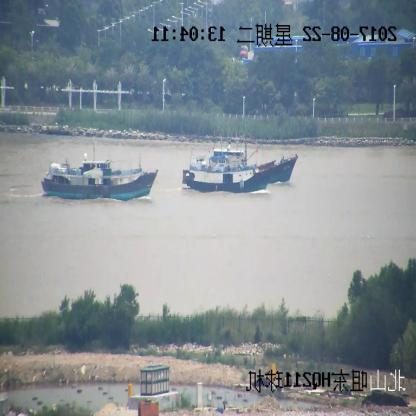Fishing Boat: (42, 154, 158, 202), (205, 147, 297, 187), (184, 154, 274, 191)
